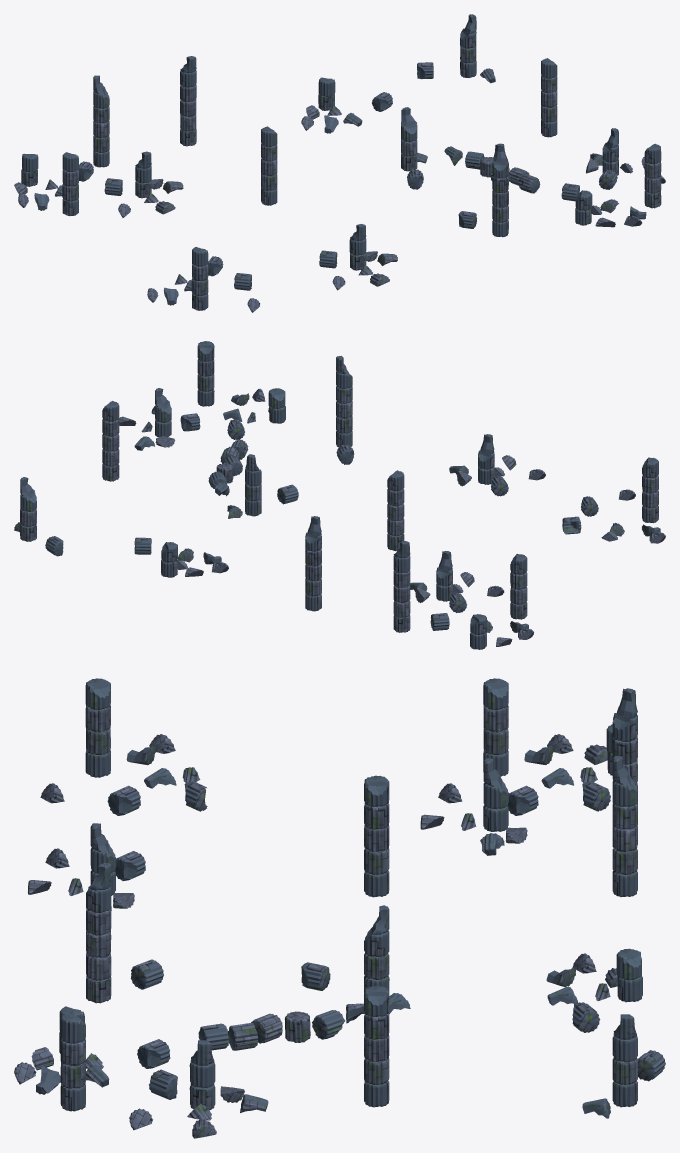
File: AncientRuin2.obj
3 renders of one model, top to bottom at view 1: azimuth 30°, elevation 25°; view 2: azimuth 150°, elevation 25°; view 3: azimuth 270°, elevation 25°, orthographic. The views are drawn at different scales.
Visible parts, largest first — view 1: Pilar7; view 2: Pilar7; view 3: Pilar7.
Boxes of the visible parts, box(x1,y1,x2,y2) form: Pilar7: box(14, 14, 665, 312); Pilar7: box(14, 341, 665, 649); Pilar7: box(14, 678, 665, 1138).
Size of the model in its own units: 18.6 by 3.05 by 13.12.
1 material, 1 textured.
